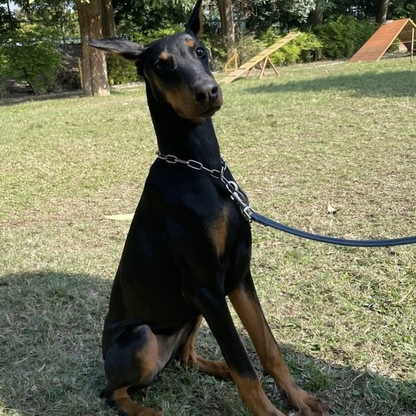doberman: (86, 10, 322, 415)
